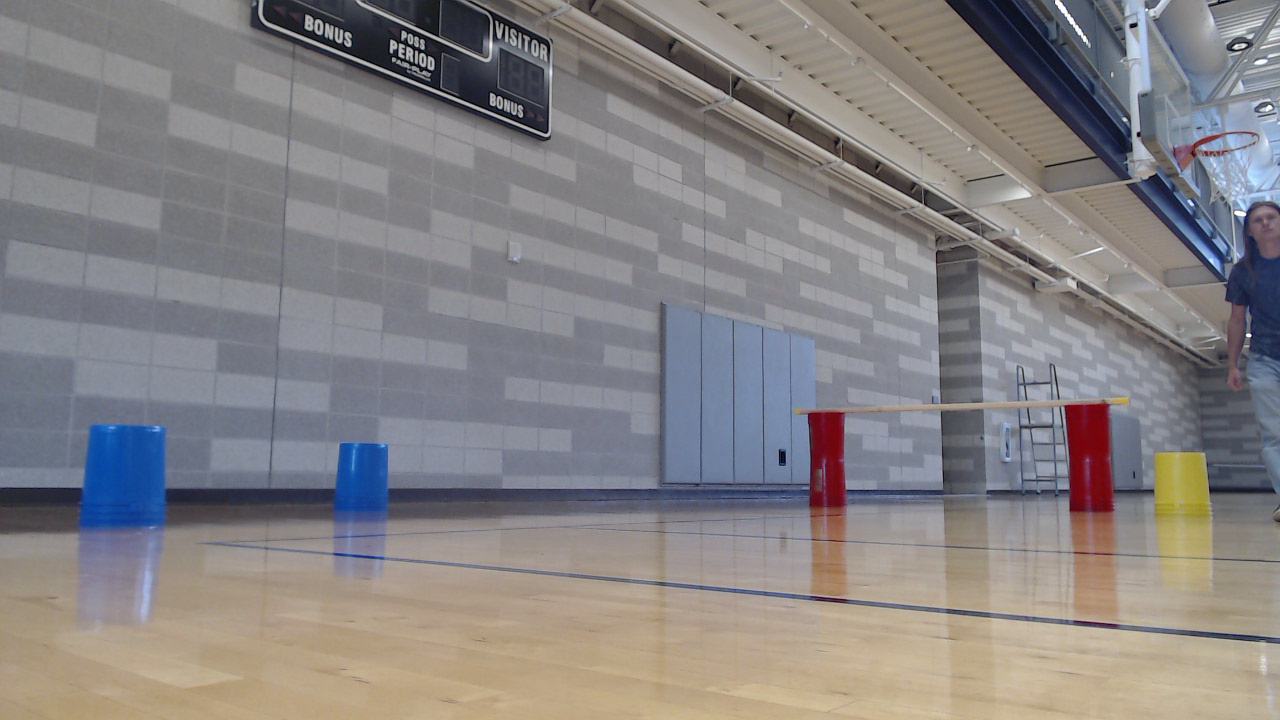blue_bucket: (80, 425, 178, 540), (335, 446, 398, 527)
red_bucket_arch: (809, 399, 1124, 526)
yellow_bucket: (1155, 452, 1220, 526)
